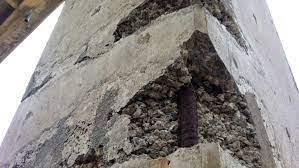Exposed reinforcement: (176, 80, 199, 148)
Spalling: (105, 29, 263, 168), (112, 1, 249, 57), (57, 119, 105, 168)
